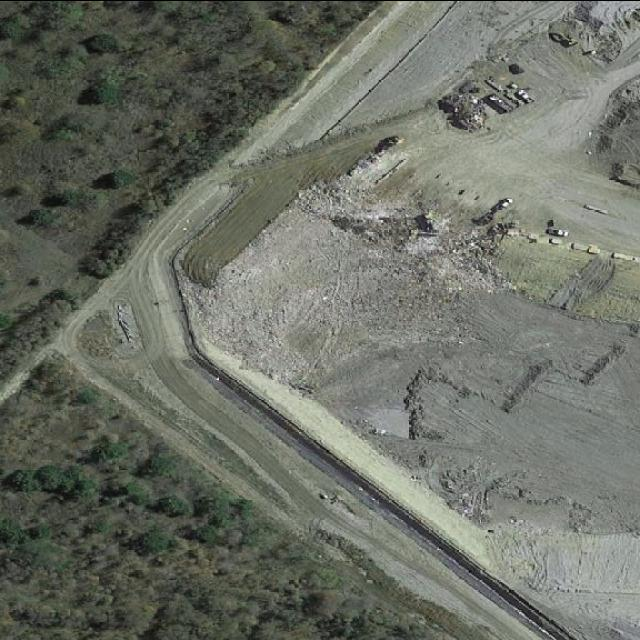dump_site: (435, 88, 495, 135)
